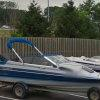Boat: (2, 31, 99, 100)
